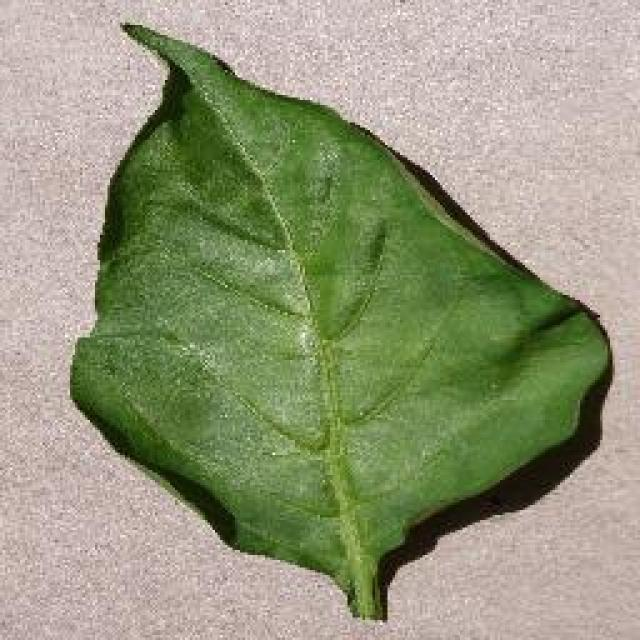Leaf: (50, 28, 622, 607)
